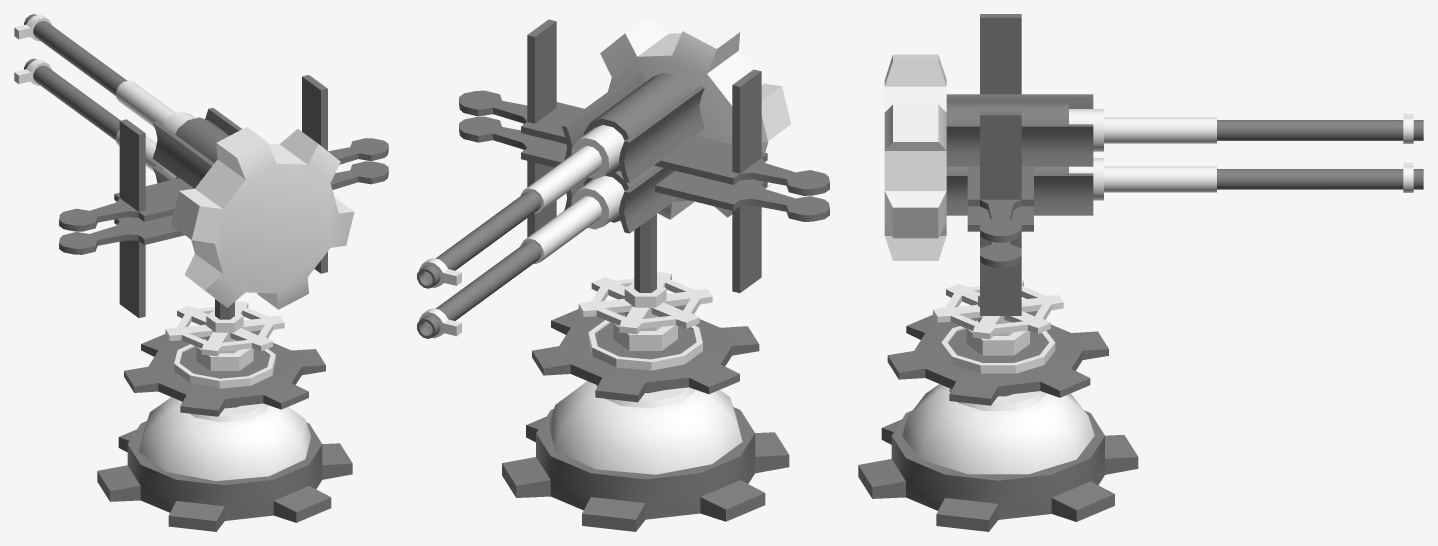
Rendered from multigunner.glb.
3 views of the same model, side by side, from view 1: azimuth 30°, elevation 25°; view 2: azimuth 150°, elevation 25°; view 3: azimuth 270°, elevation 25° (orthographic). The views are drawn at different scales.
Visible parts, largest first — view 1: Turret, Body; view 2: Turret, Body; view 3: Turret, Body.
Boxes of the visible parts, bbox=[...] form: Turret: bbox=[14, 14, 388, 416]; Body: bbox=[97, 339, 352, 531]; Turret: bbox=[417, 14, 829, 402]; Body: bbox=[502, 320, 789, 531]; Turret: bbox=[884, 14, 1423, 405]; Body: bbox=[858, 320, 1138, 531].
Bounding box in the file's own units: 4.54 × 5 × 6.24.
Materials: 2 (1 with a texture image).
